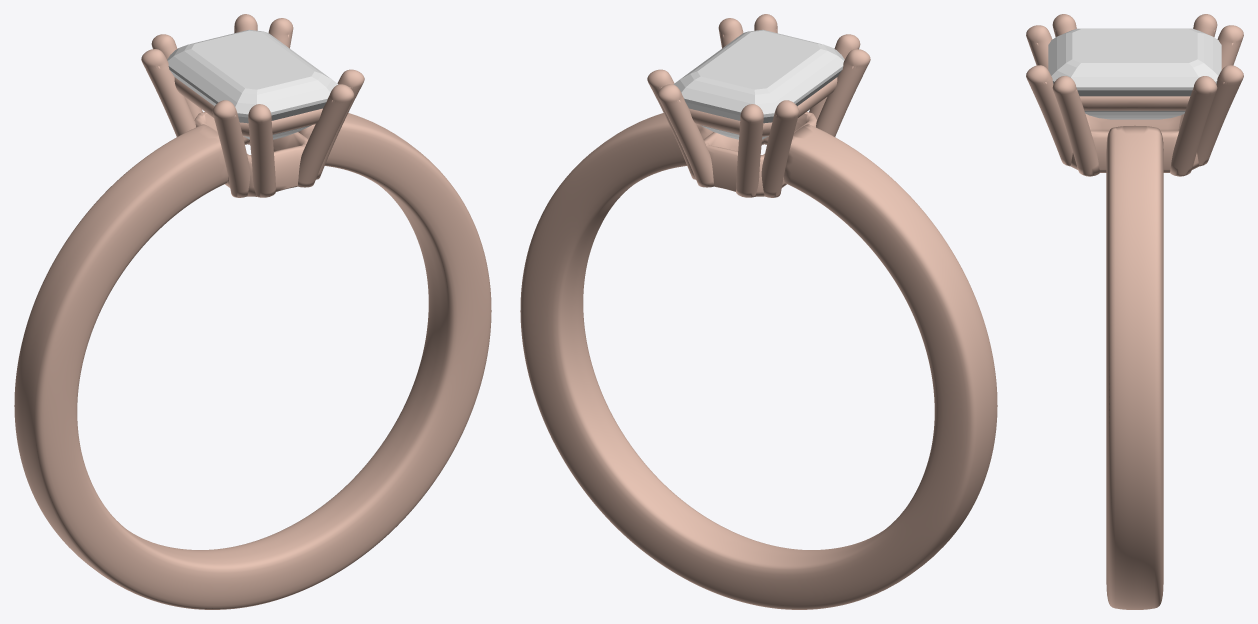
The model's file is diamond-emerald-rosegold-8prong-straightband-solitaire.glb.
The picture shows the model from 3 angles, left to right: view 1: azimuth 30°, elevation 25°; view 2: azimuth 150°, elevation 25°; view 3: azimuth 270°, elevation 25°; orthographic projection.
Visible parts, largest first — view 1: metal.002, stone; view 2: metal.002, stone; view 3: metal.002, stone.
Boxes of the visible parts, bbox=[...] form: metal.002: bbox=[14, 14, 491, 609]; stone: bbox=[167, 29, 338, 139]; metal.002: bbox=[520, 14, 997, 609]; stone: bbox=[673, 29, 844, 139]; metal.002: bbox=[1026, 14, 1243, 609]; stone: bbox=[1048, 28, 1221, 119].
Bounding box in the file's own units: 20.5 × 22.95 × 8.4.
